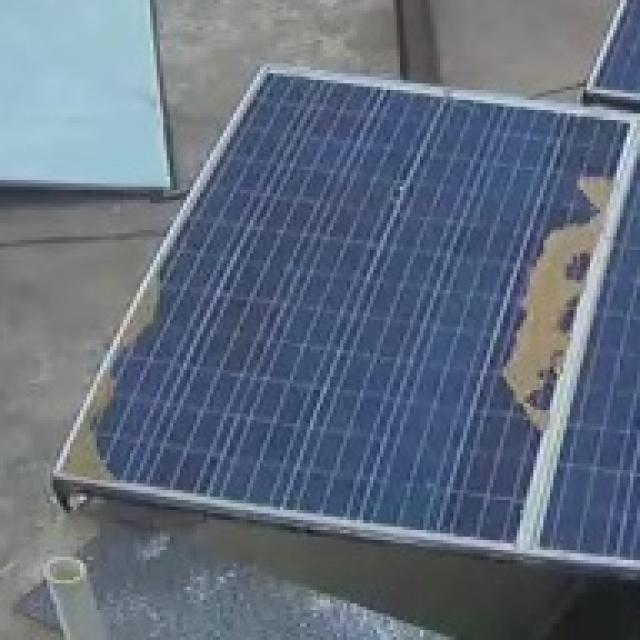Dusty: (501, 172, 620, 450), (68, 271, 163, 484)
